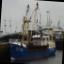fishing boat: (6, 0, 61, 63)
